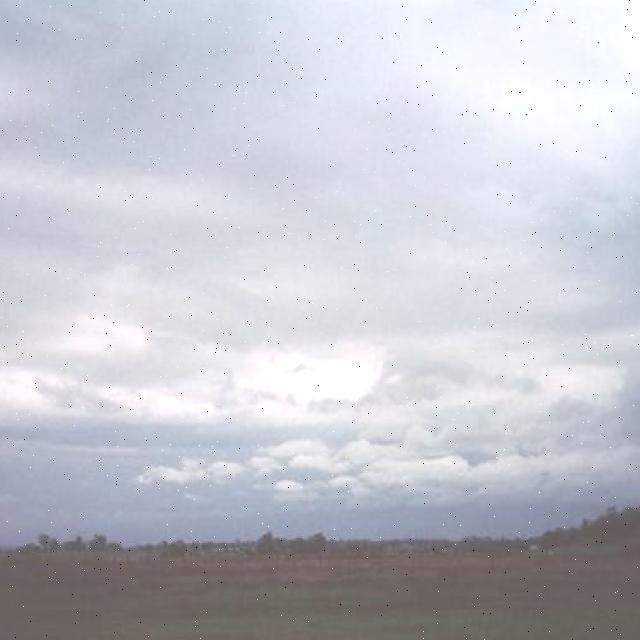St: (1, 5, 640, 505)
